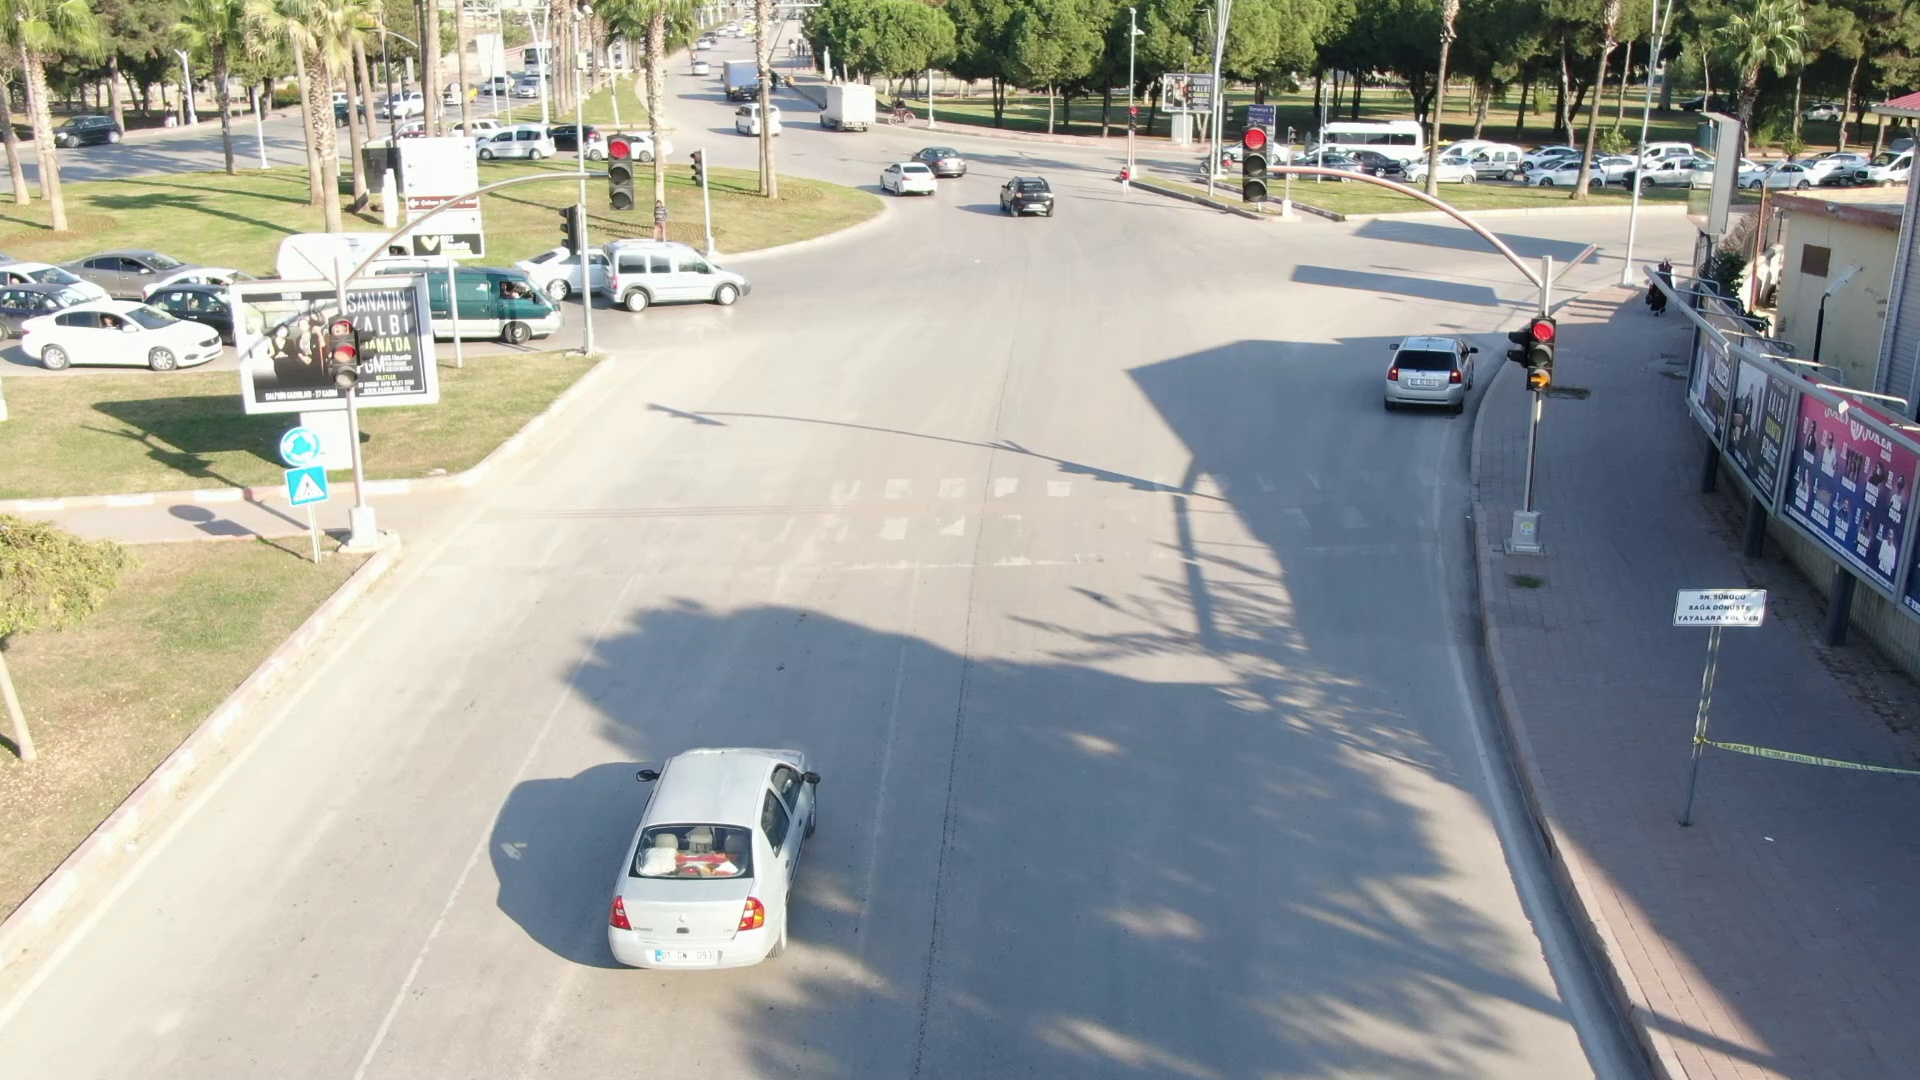car: (568, 702, 868, 992), (18, 291, 224, 388), (1361, 310, 1495, 442), (593, 231, 771, 324), (980, 161, 1063, 229), (860, 150, 945, 211)
